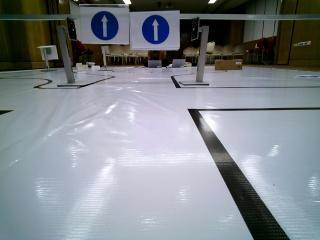straight: (79, 5, 130, 43), (131, 12, 178, 48)
